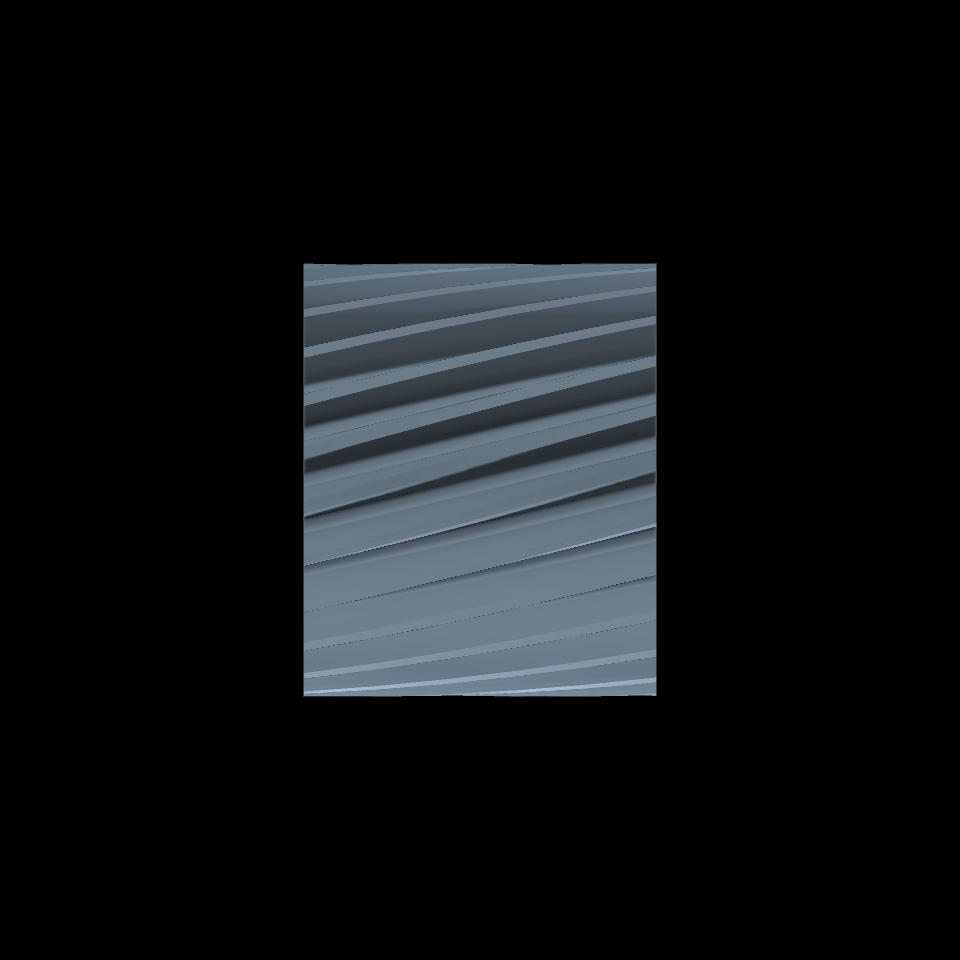Helical: (304, 262, 656, 696)
